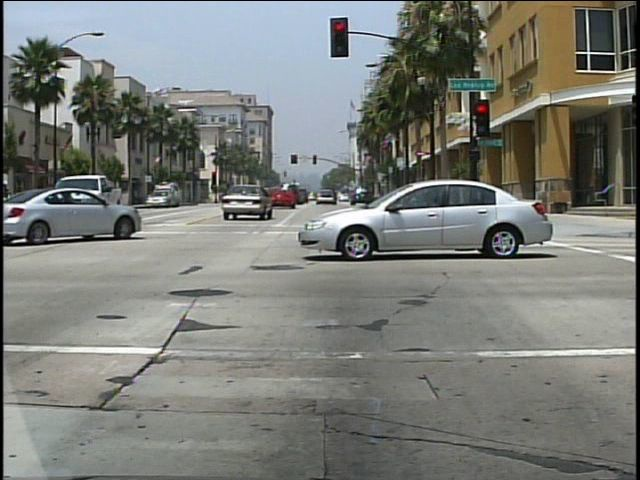person: (2, 174, 21, 228)
